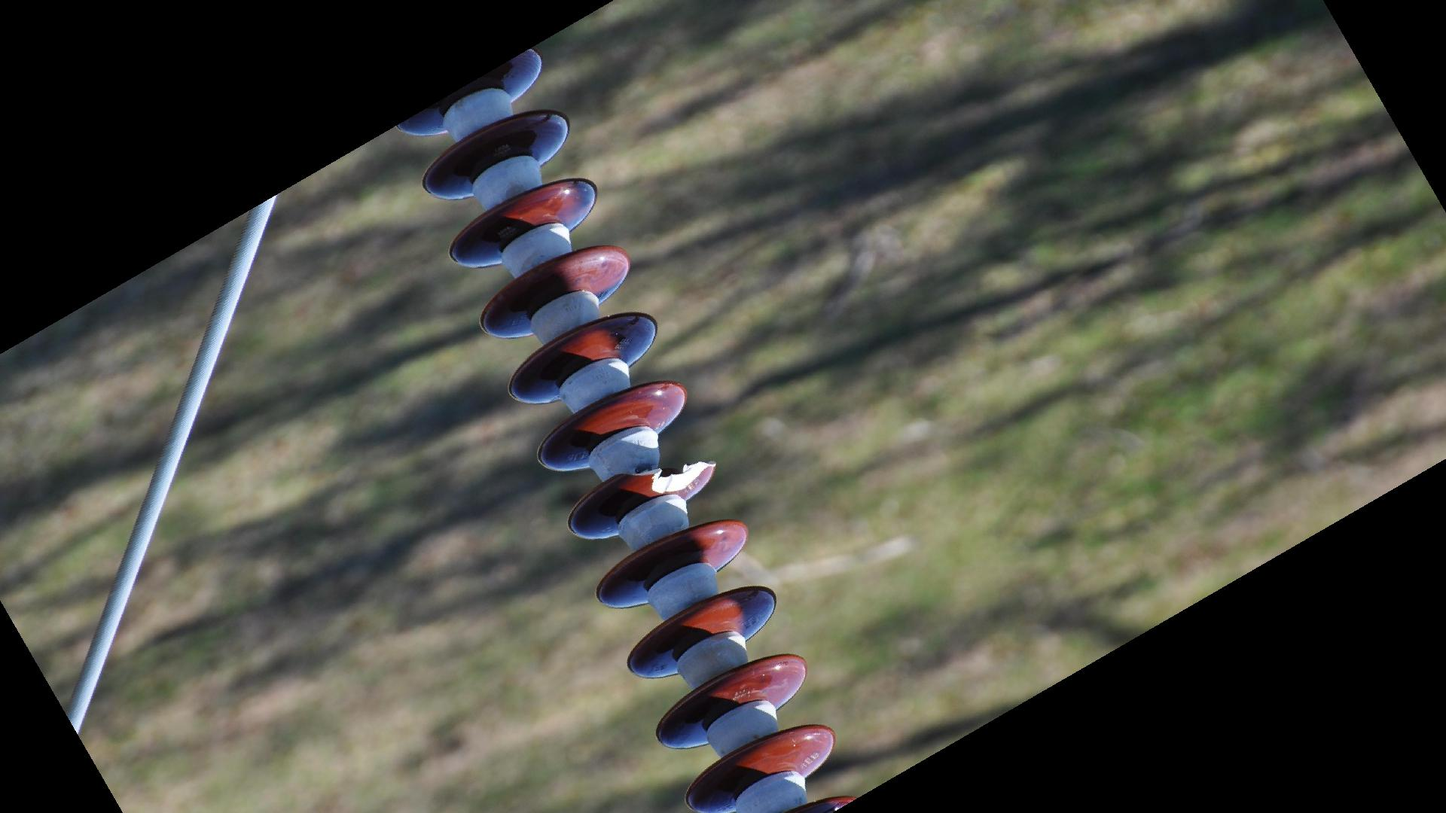insulator: (390, 40, 860, 813)
insulator_breakage: (624, 454, 721, 498)
